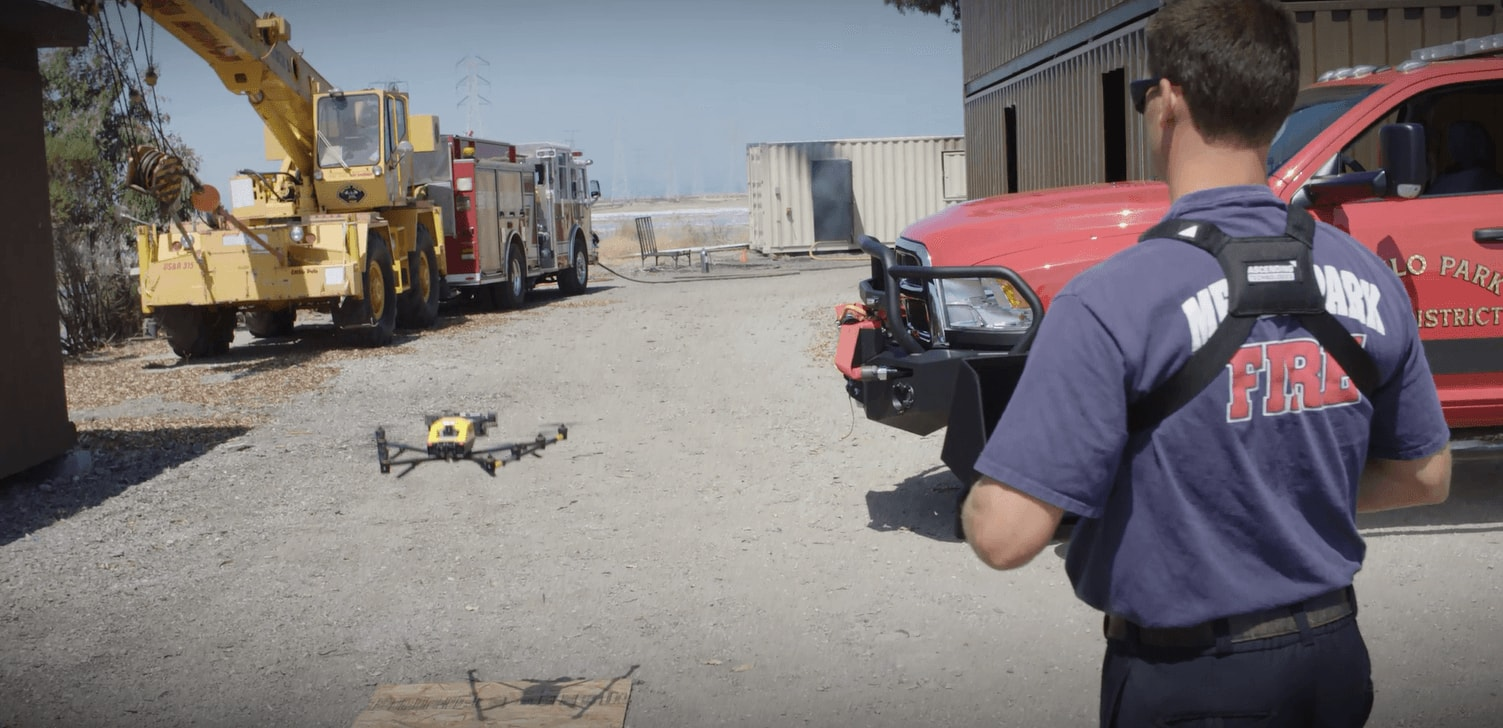drone: (362, 401, 587, 482)
person: (959, 1, 1456, 728)
shadow_of_drone: (456, 664, 646, 725)
